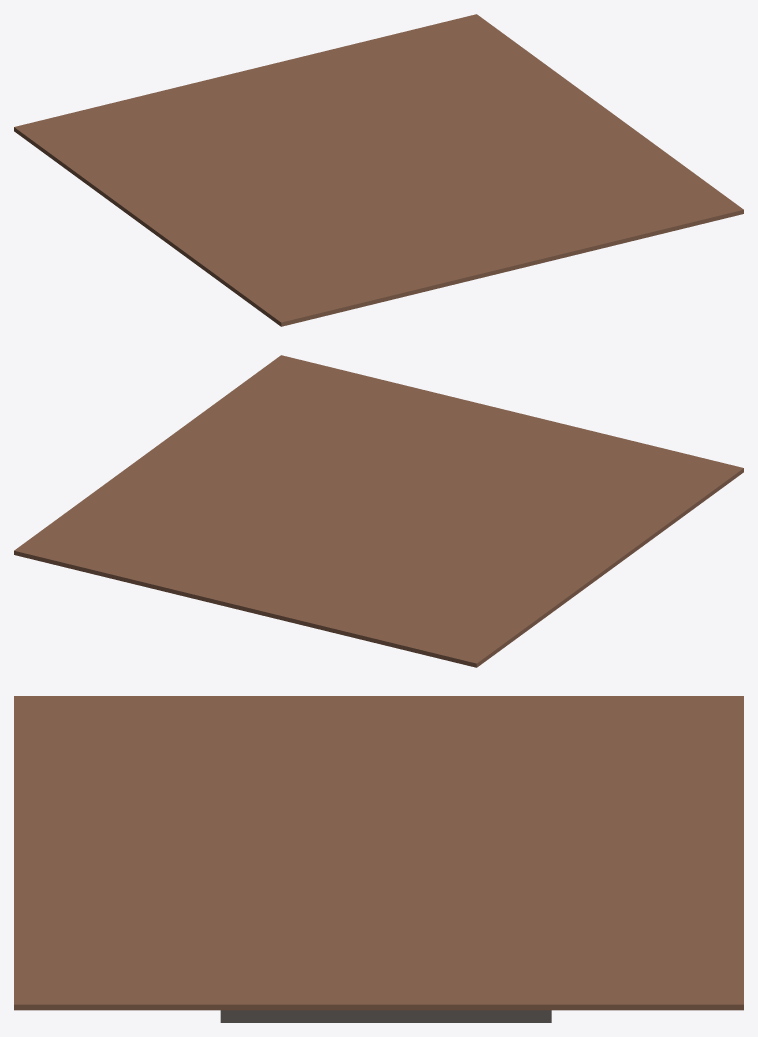
File: Escenario_Blender.fbx
3 views of the same model, one above another, from view 1: azimuth 30°, elevation 25°; view 2: azimuth 150°, elevation 25°; view 3: azimuth 270°, elevation 25° (orthographic). The views are drawn at different scales.
Visible parts, largest first — view 1: Techo; view 2: Techo; view 3: Techo, Paredes y Suelo.
Boxes of the visible parts, <box> form: Techo: <box>14,14,743,326</box>; Techo: <box>14,355,743,667</box>; Techo: <box>14,696,743,1010</box>; Paredes y Suelo: <box>220,1010,551,1022</box>.
Size of the model in its own units: 5433 by 381 by 5433.
